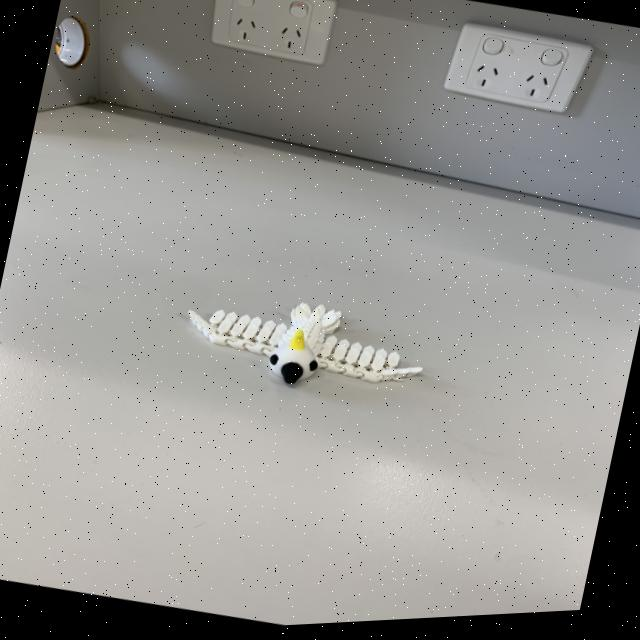cockatoo: (165, 268, 433, 431)
